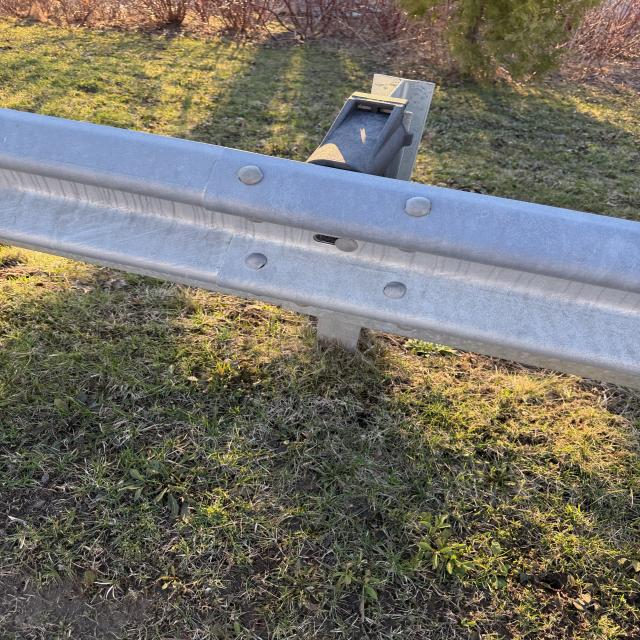Guard rail: (17, 106, 616, 362), (306, 78, 437, 175)
